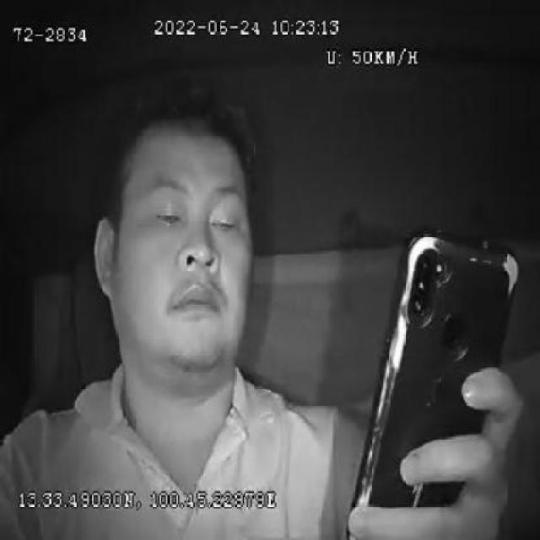phone: (342, 223, 520, 540)
